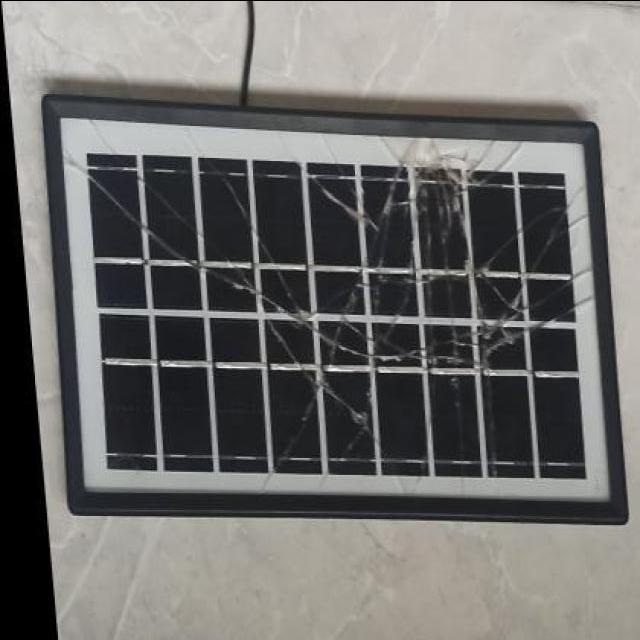cracked: (39, 96, 624, 523)
